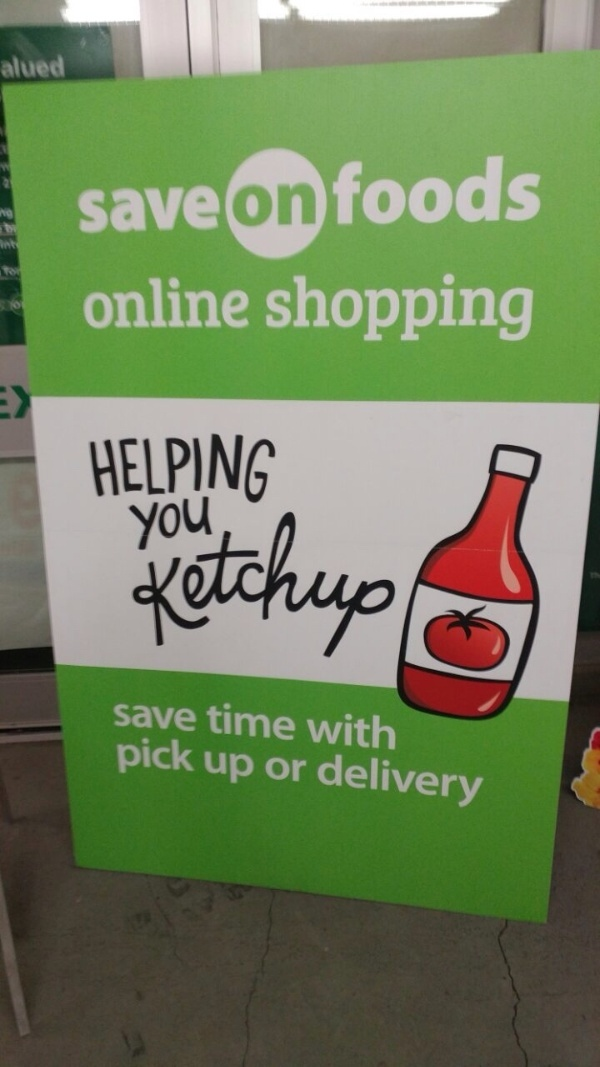text: (145, 496, 160, 662), (161, 496, 176, 662), (177, 496, 192, 662), (193, 496, 208, 662), (209, 496, 224, 662), (225, 496, 240, 662), (241, 496, 256, 662), (257, 496, 272, 662), (273, 496, 288, 662), (289, 496, 304, 662), (305, 496, 320, 662), (321, 496, 336, 662), (337, 496, 352, 662), (353, 496, 368, 662), (369, 496, 384, 662), (385, 496, 400, 662), (401, 496, 416, 662), (131, 496, 144, 662), (337, 153, 352, 226), (353, 153, 368, 226), (369, 153, 384, 226), (385, 153, 400, 226), (401, 153, 416, 226), (417, 153, 432, 226), (433, 153, 448, 226), (449, 153, 464, 226), (465, 153, 480, 226), (481, 153, 496, 226), (497, 153, 512, 226), (513, 153, 528, 226), (97, 432, 112, 505), (113, 432, 128, 505), (129, 432, 144, 505), (145, 432, 160, 505), (161, 432, 176, 505), (177, 432, 192, 505), (193, 432, 208, 505), (209, 432, 224, 505), (225, 432, 240, 505), (241, 432, 256, 505), (257, 432, 272, 505), (273, 273, 288, 343), (289, 273, 304, 343), (305, 273, 320, 343), (321, 273, 336, 343), (337, 273, 352, 343), (353, 273, 368, 343), (369, 273, 384, 343), (385, 273, 400, 343), (401, 273, 416, 343), (417, 273, 432, 343), (433, 273, 448, 343), (449, 273, 464, 343), (465, 273, 480, 343), (481, 273, 496, 343), (497, 273, 512, 343), (513, 273, 528, 343), (529, 153, 542, 226), (321, 752, 336, 810), (337, 752, 352, 810), (353, 752, 368, 810), (369, 752, 384, 810), (385, 752, 400, 810), (401, 752, 416, 810), (417, 752, 432, 810), (433, 752, 448, 810), (449, 752, 464, 810), (465, 752, 480, 810), (129, 495, 144, 551), (145, 495, 160, 551), (161, 495, 176, 551), (177, 495, 192, 551), (193, 495, 208, 551), (97, 276, 112, 331), (113, 276, 128, 331), (129, 276, 144, 331), (145, 276, 160, 331), (161, 276, 176, 331), (177, 276, 192, 331), (193, 276, 208, 331), (209, 276, 224, 331), (225, 276, 240, 331), (81, 184, 96, 234), (97, 184, 112, 234), (113, 184, 128, 234), (129, 184, 144, 234), (145, 184, 160, 234), (161, 184, 176, 234), (177, 184, 192, 234), (193, 184, 208, 234), (86, 432, 96, 505), (83, 276, 96, 331), (241, 181, 256, 228), (257, 181, 272, 228), (273, 181, 288, 228), (289, 181, 304, 228), (305, 181, 320, 228), (417, 496, 421, 662), (209, 184, 222, 234), (321, 710, 336, 752), (337, 710, 352, 752), (353, 710, 368, 752), (369, 710, 384, 752), (209, 700, 224, 742), (225, 700, 240, 742), (241, 700, 256, 742), (257, 700, 272, 742), (273, 700, 288, 742), (306, 710, 320, 752), (129, 737, 144, 774), (145, 737, 160, 774), (161, 737, 176, 774), (177, 737, 192, 774), (241, 276, 251, 331), (209, 751, 224, 787), (225, 751, 240, 787), (385, 710, 397, 752), (241, 751, 255, 787), (529, 273, 536, 343), (116, 737, 128, 774), (113, 704, 128, 733), (129, 704, 144, 733), (145, 704, 160, 733), (161, 704, 176, 733), (177, 704, 192, 733), (266, 273, 272, 343), (1, 53, 16, 81), (17, 53, 32, 81), (33, 53, 48, 81), (49, 53, 64, 81), (481, 752, 488, 810), (273, 757, 288, 783), (289, 757, 304, 783), (232, 181, 240, 228), (289, 700, 296, 742), (332, 153, 336, 226), (273, 432, 277, 505), (209, 495, 214, 551), (2, 177, 16, 191), (1, 208, 16, 221), (2, 266, 16, 279), (3, 222, 16, 236), (1, 240, 16, 251), (266, 757, 272, 783), (204, 751, 208, 787), (1, 163, 16, 172), (193, 704, 197, 733), (78, 184, 80, 234), (206, 700, 208, 742), (17, 266, 23, 279), (193, 737, 195, 774), (17, 240, 23, 251), (127, 495, 128, 551), (305, 757, 307, 783), (17, 222, 20, 236), (65, 53, 66, 81)
